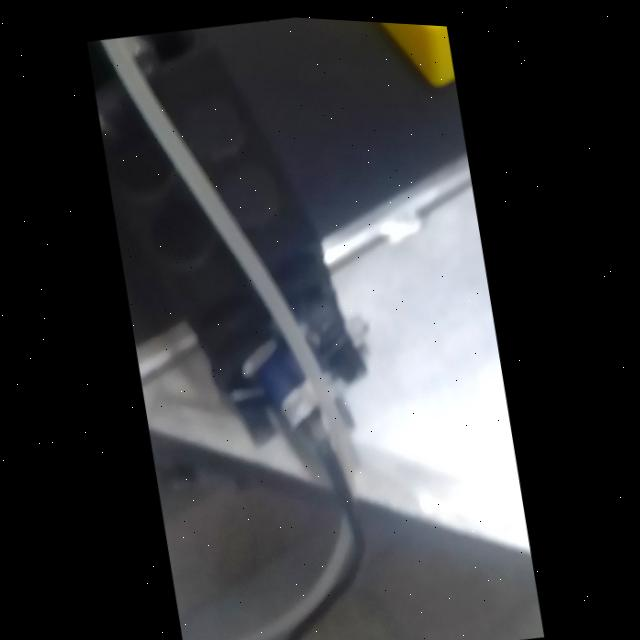yellowBox: (354, 17, 456, 96)
